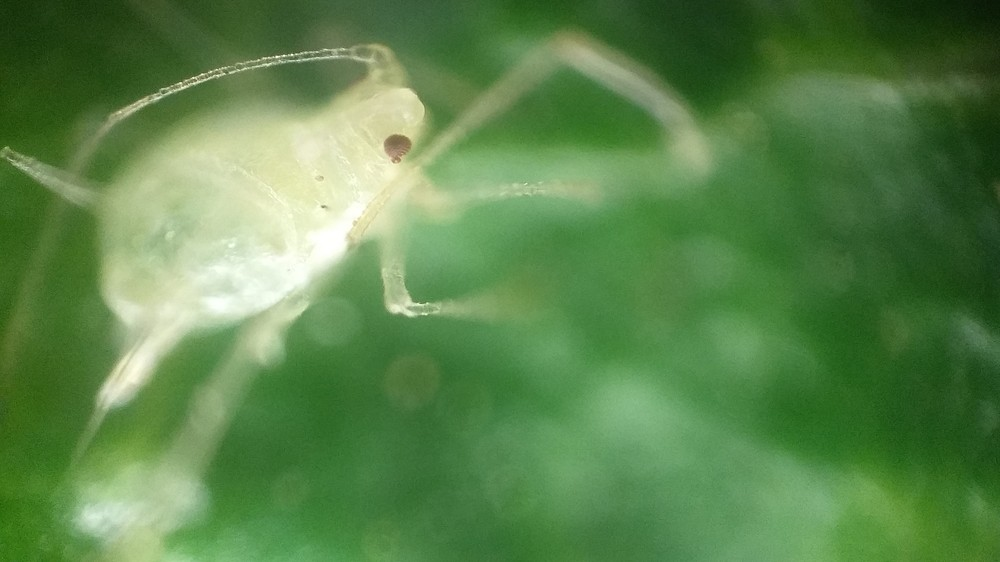Pulgon: (18, 5, 743, 464)
